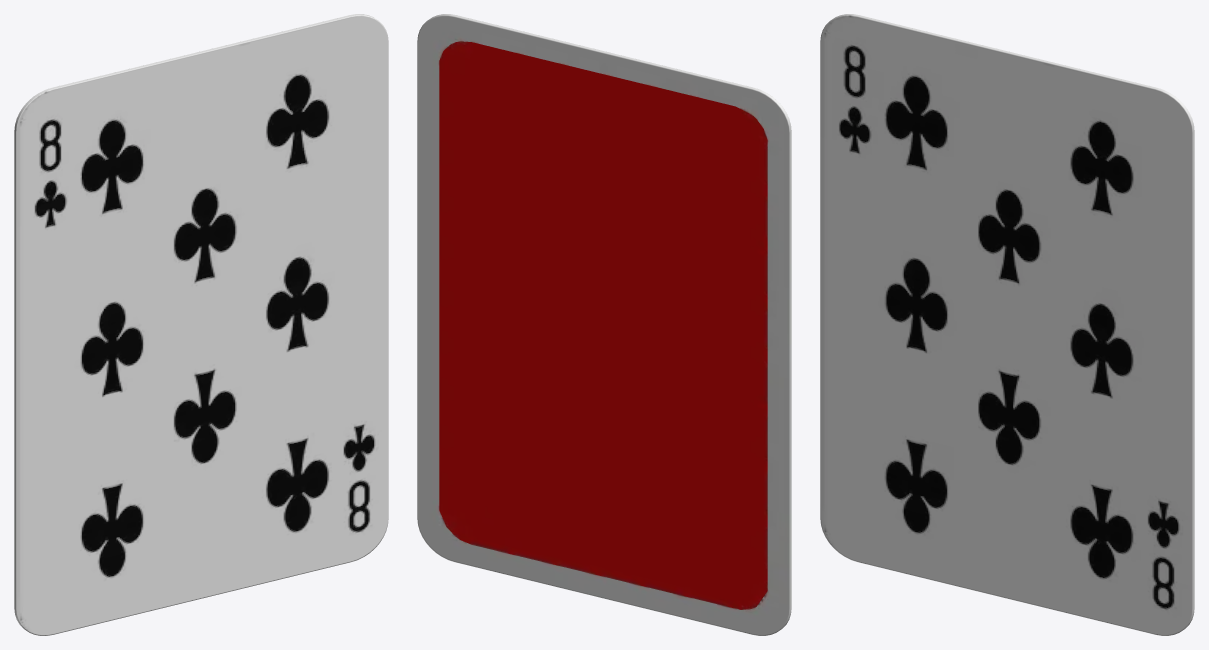
Rendered from clubs_8.glb.
3 views of the same model, side by side, from view 1: azimuth 30°, elevation 25°; view 2: azimuth 150°, elevation 25°; view 3: azimuth 330°, elevation 25° (orthographic).
Parts seen in each view (by area): view 1: defaultMaterial.016; view 2: defaultMaterial.016; view 3: defaultMaterial.016.
Boxes of the visible parts, box(x1,y1,x2,y2) form: defaultMaterial.016: box(14, 14, 388, 635); defaultMaterial.016: box(417, 14, 791, 635); defaultMaterial.016: box(820, 14, 1194, 635).
Size of the model in its own units: 0.1408 by 0.1972 by 0.00111.
1 material, 1 textured.
